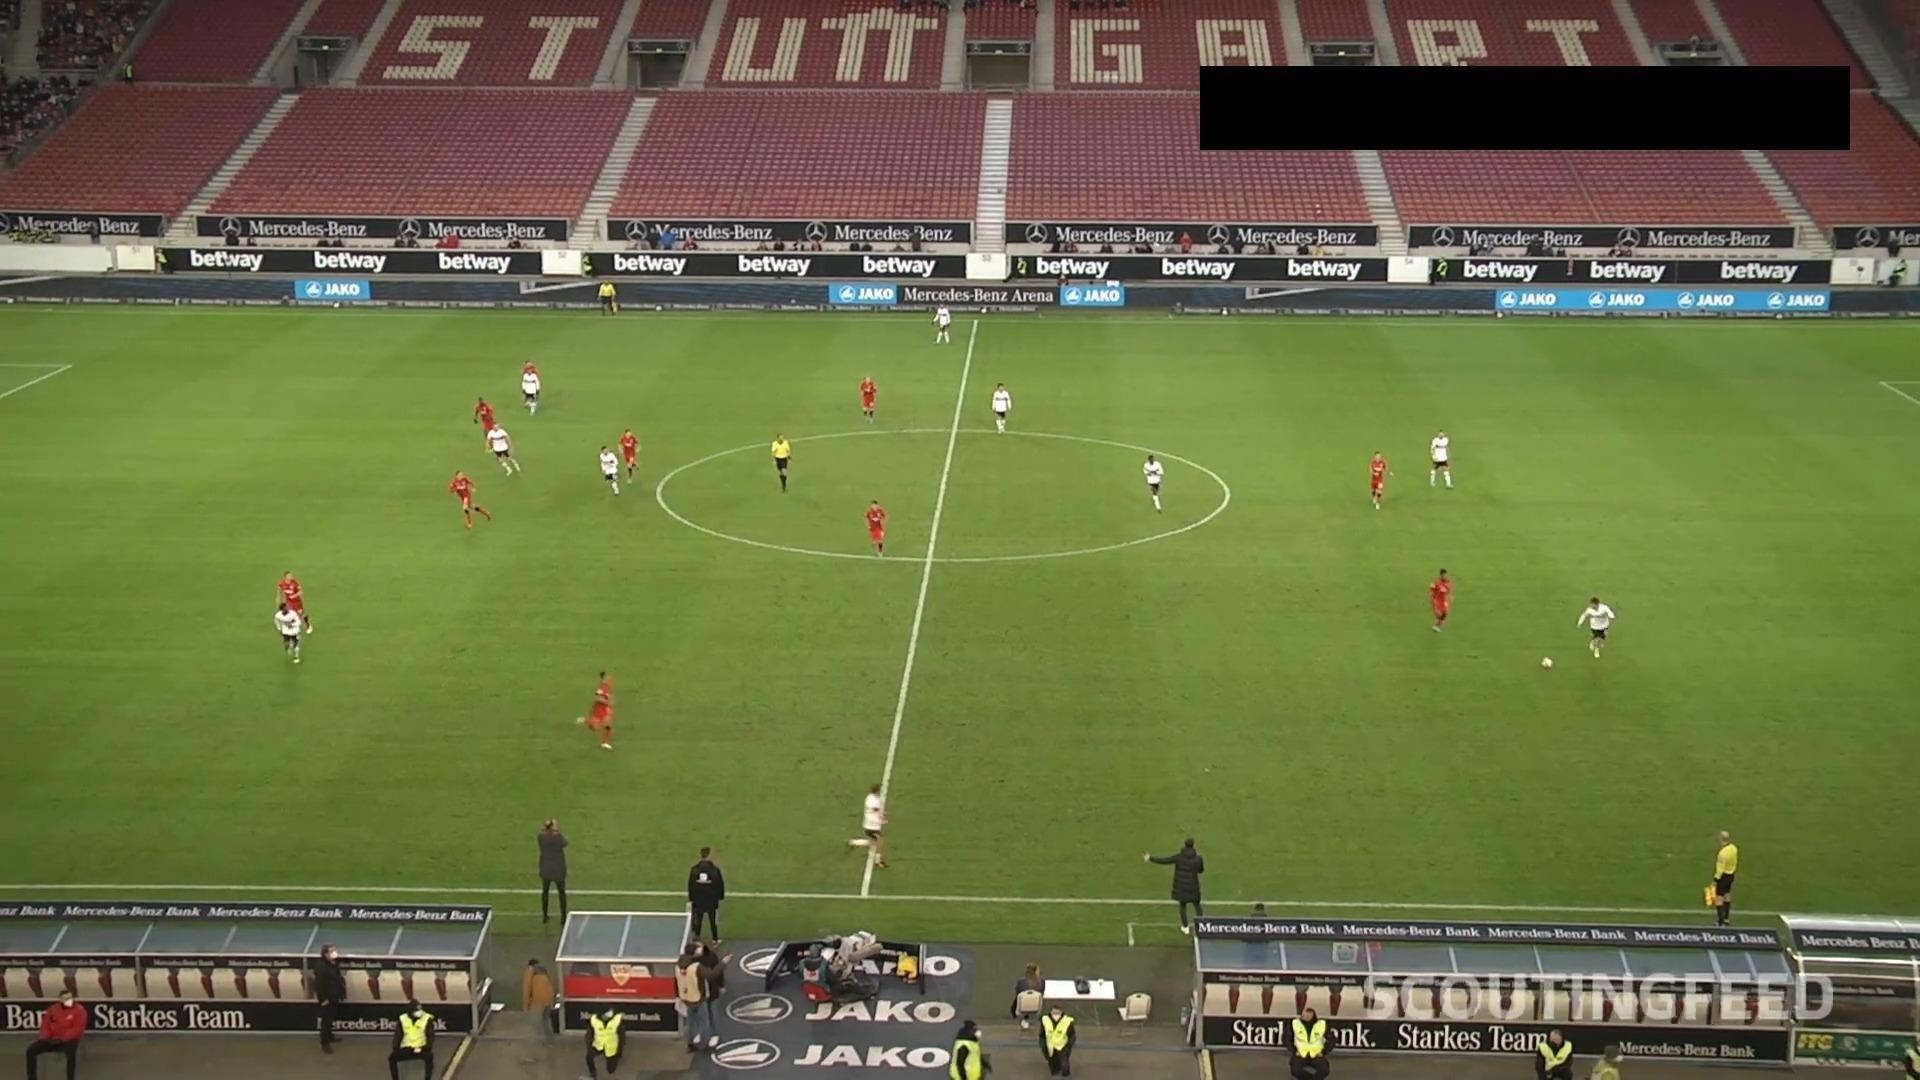ball: (1538, 655, 1555, 671)
